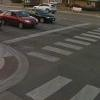Crosswalk: (36, 25, 95, 76)
